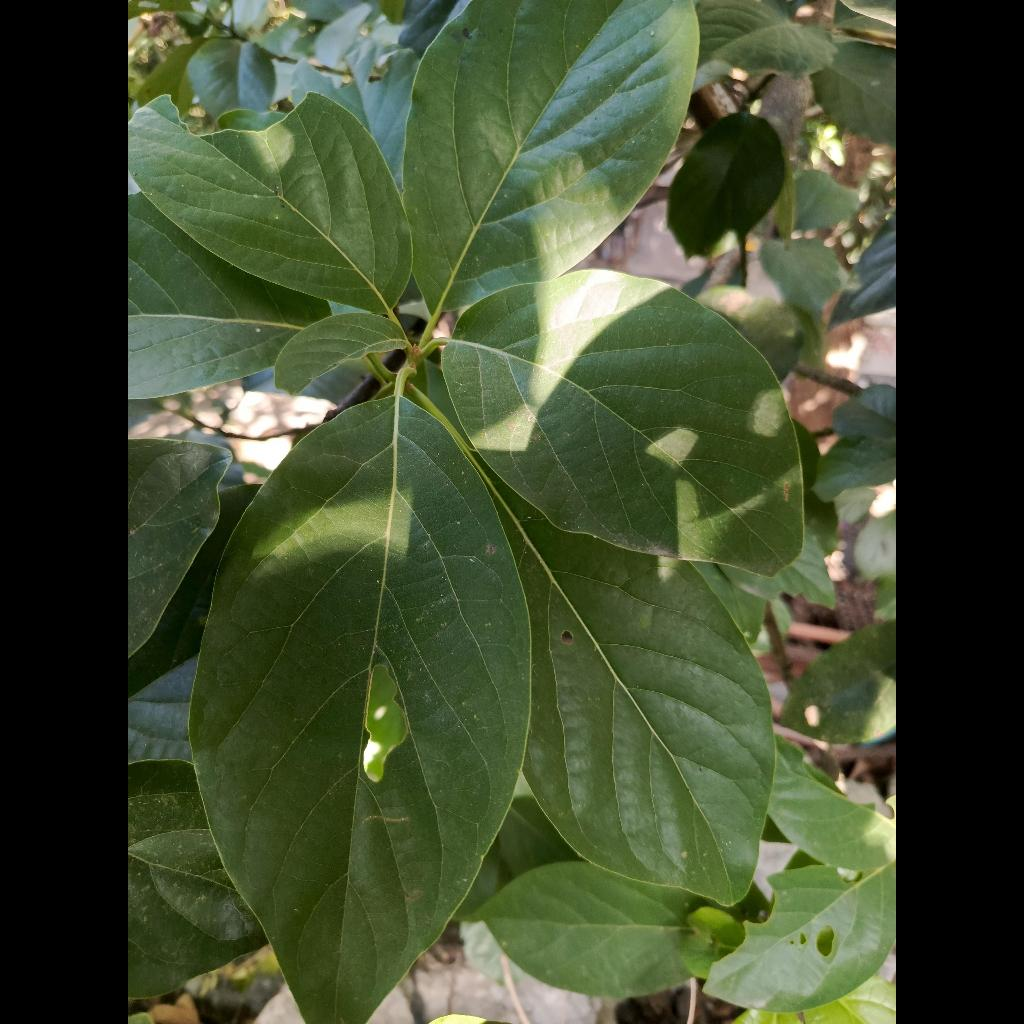Pest Infested: (190, 396, 529, 1024), (128, 95, 411, 318)
